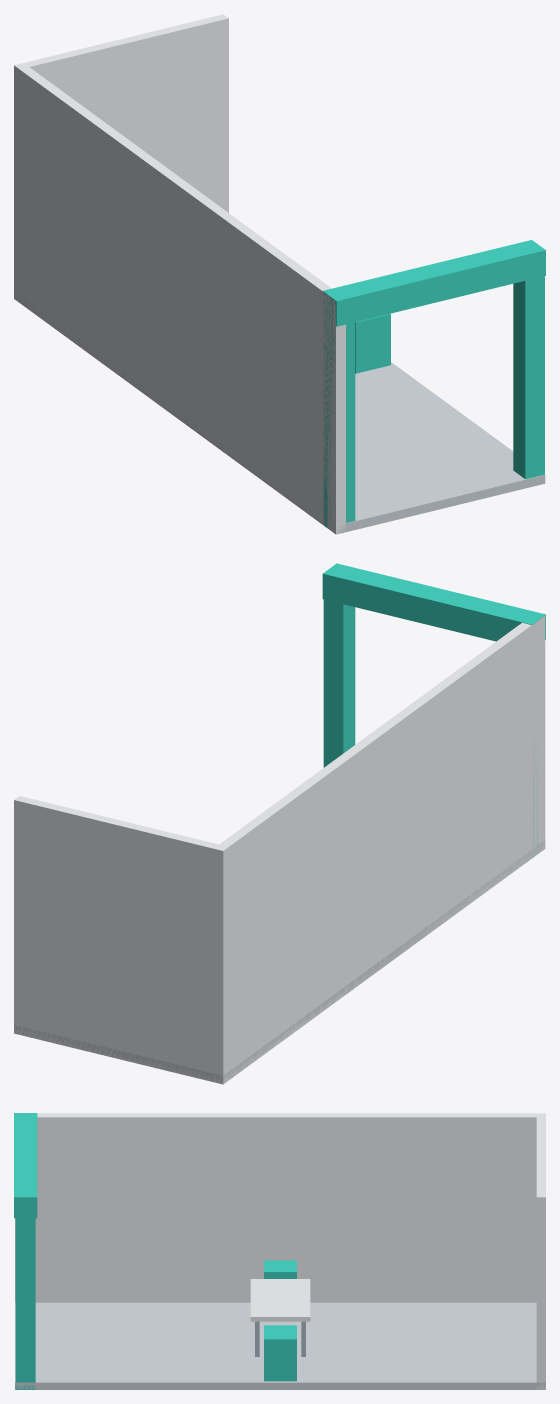
3 views of the same model, one above another, from view 1: azimuth 30°, elevation 25°; view 2: azimuth 150°, elevation 25°; view 3: azimuth 270°, elevation 25° (orthographic). The views are drawn at different scales.
Parts seen in each view (by area): view 1: Exhibition Booth Concept; view 2: Exhibition Booth Concept; view 3: Exhibition Booth Concept.
Part boxes in pixels (x1=…): Exhibition Booth Concept: x1=14, y1=14, x2=545, y2=534; Exhibition Booth Concept: x1=14, y1=563, x2=545, y2=1084; Exhibition Booth Concept: x1=14, y1=1113, x2=545, y2=1389.
Bounding box in the file's own units: 3 × 3.2 × 8.01.
